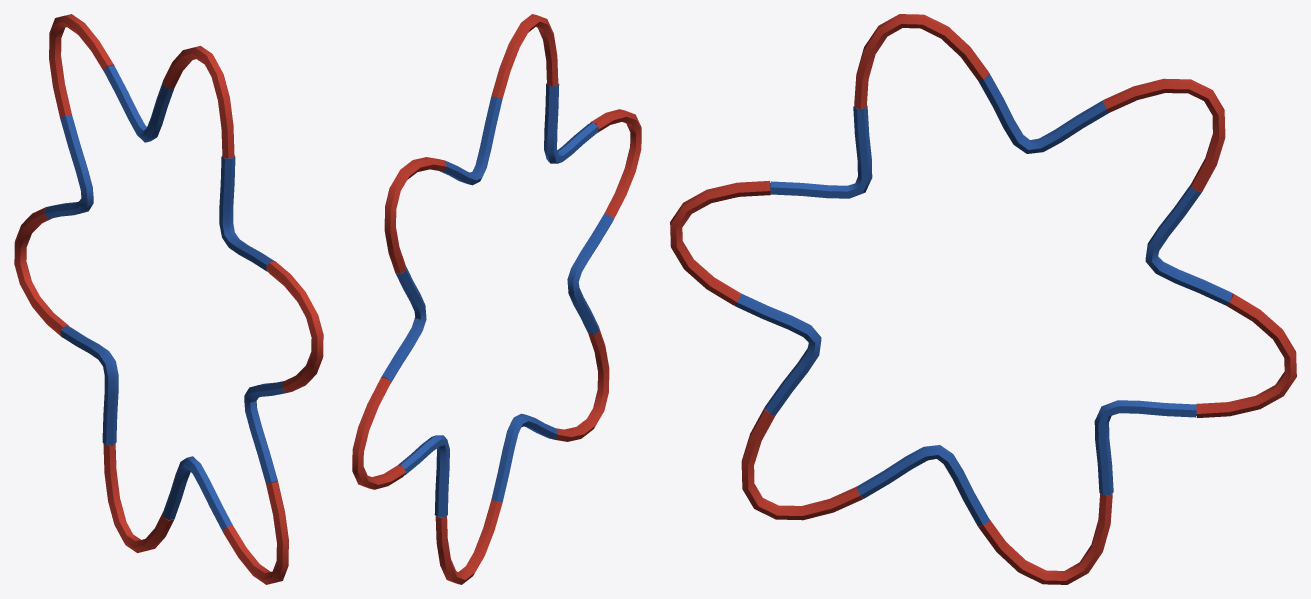
Rendered from magnetic_coupling_magnetic_field.glb.
3 views of the same model, side by side, from view 1: azimuth 30°, elevation 25°; view 2: azimuth 150°, elevation 25°; view 3: azimuth 270°, elevation 25° (orthographic). The views are drawn at different scales.
Visible parts, largest first — view 1: mf; view 2: mf; view 3: mf.
Part boxes in pixels (x1,y1,x2,y2): mf: [14, 14, 323, 584]; mf: [352, 14, 641, 584]; mf: [670, 14, 1296, 584].
Bounding box in the file's own units: 0.006 × 0.261 × 0.261.
